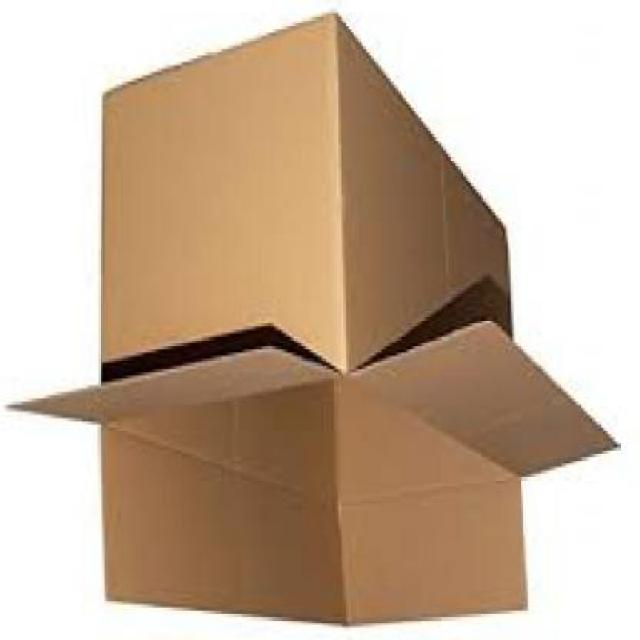CARDBOARD: (10, 19, 625, 633)
